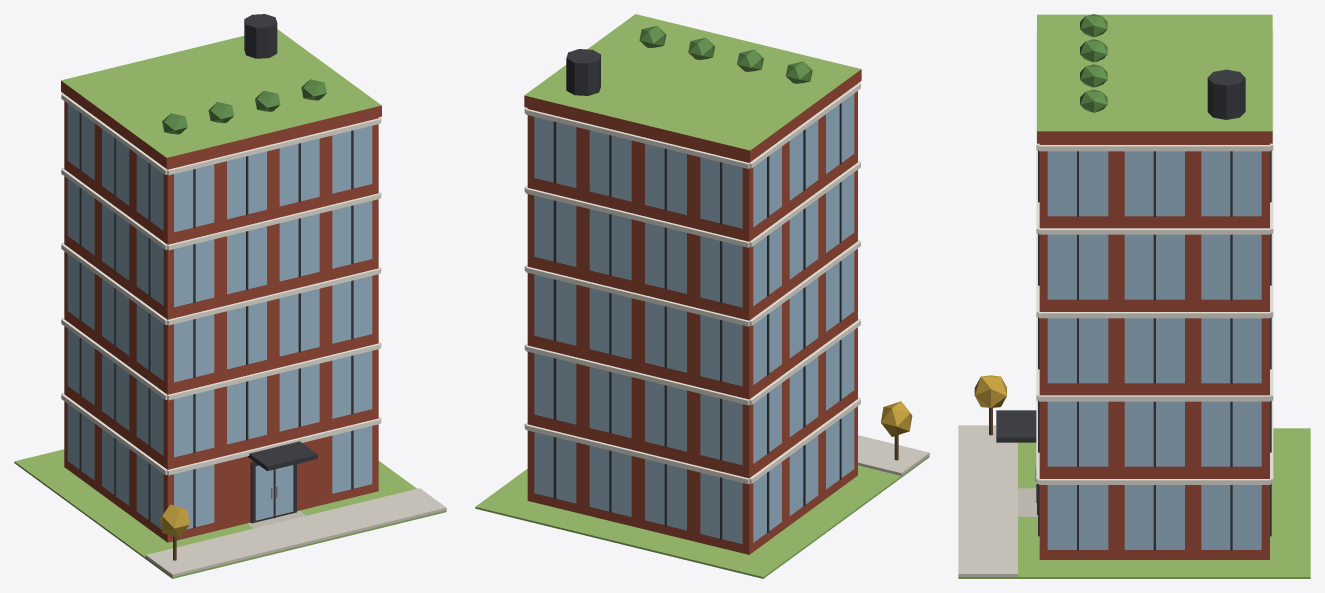
File: Buro_tugla_cam_2_Hafif.fbx
3 views of the same model, side by side, from view 1: azimuth 30°, elevation 25°; view 2: azimuth 150°, elevation 25°; view 3: azimuth 270°, elevation 25° (orthographic). The views are drawn at different scales.
Visible parts, largest first — view 1: Buro_tugla_cam_2_Hafif; view 2: Buro_tugla_cam_2_Hafif; view 3: Buro_tugla_cam_2_Hafif.
Boxes of the visible parts, x1,y1,x2,y2 form: Buro_tugla_cam_2_Hafif: (14, 14, 446, 578); Buro_tugla_cam_2_Hafif: (475, 14, 929, 578); Buro_tugla_cam_2_Hafif: (958, 14, 1310, 578).
Size of the model in its own units: 13 by 19.02 by 13.
